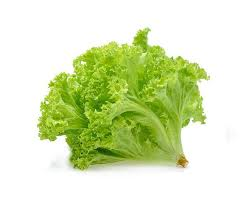lettuce: (48, 35, 206, 189)
